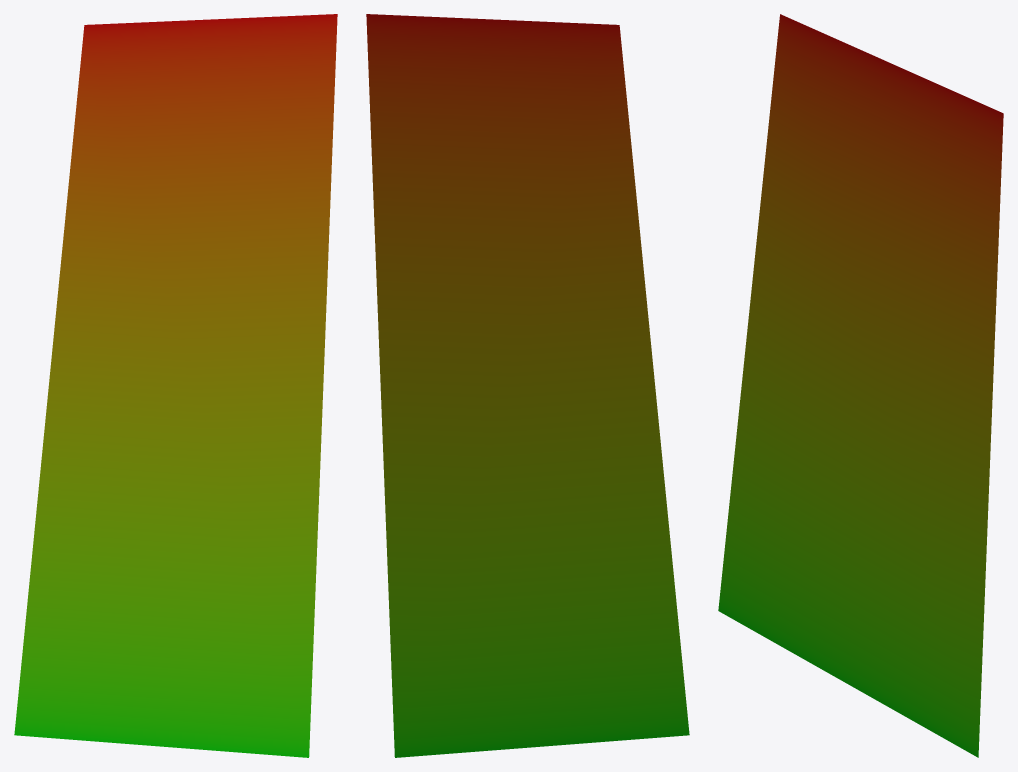
The model's file is Money Plant_LOD3_Var2_uchmfdyia.fbx.
The picture shows the model from 3 angles, left to right: view 1: azimuth 30°, elevation 25°; view 2: azimuth 150°, elevation 25°; view 3: azimuth 330°, elevation 25°; orthographic projection. The views are drawn at different scales.
Parts seen in each view (by area): view 1: _6e1c_Var2_LOD3; view 2: _6e1c_Var2_LOD3; view 3: _6e1c_Var2_LOD3.
Boxes of the visible parts, x1,y1,x2,y2 form: _6e1c_Var2_LOD3: [14, 14, 337, 757]; _6e1c_Var2_LOD3: [366, 14, 689, 757]; _6e1c_Var2_LOD3: [718, 14, 1003, 757].
Bounding box in the file's own units: 19.44 × 45.27 × 1.79e-05.
